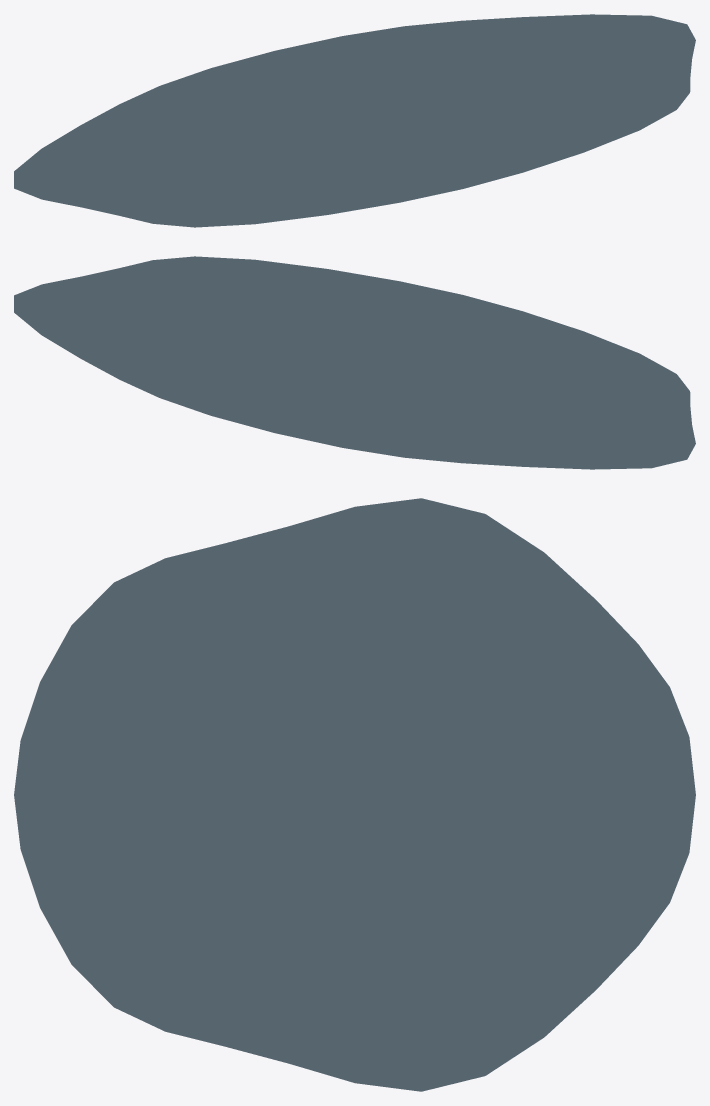
Rendered from MS_AT_06_PuddleLong.glb.
3 views of the same model, one above another, from view 1: azimuth 30°, elevation 25°; view 2: azimuth 150°, elevation 25°; view 3: azimuth 270°, elevation 25° (orthographic). The views are drawn at different scales.
Parts seen in each view (by area): view 1: ShallowWaterSurface; view 2: ShallowWaterSurface; view 3: ShallowWaterSurface.
Boxes of the visible parts, bbox=[...] form: ShallowWaterSurface: bbox=[14, 14, 695, 227]; ShallowWaterSurface: bbox=[14, 256, 695, 469]; ShallowWaterSurface: bbox=[14, 498, 695, 1091].
Bounding box in the file's own units: 2.06 × 0 × 1.
